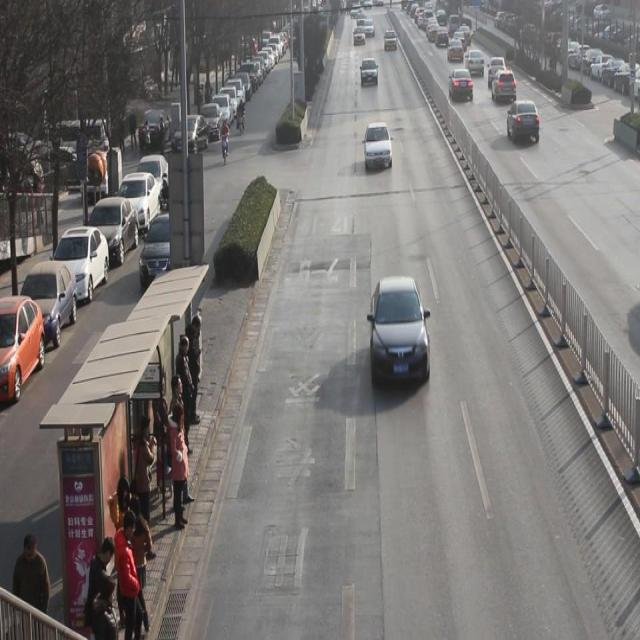car: (372, 276, 431, 387), (139, 208, 196, 290), (508, 98, 540, 144), (364, 122, 392, 171), (448, 68, 474, 103), (492, 69, 518, 104), (464, 48, 484, 78), (361, 58, 378, 88), (448, 36, 464, 64), (488, 57, 505, 82), (458, 23, 472, 46), (384, 29, 398, 52), (439, 24, 452, 44), (354, 26, 366, 46), (364, 18, 375, 38)
